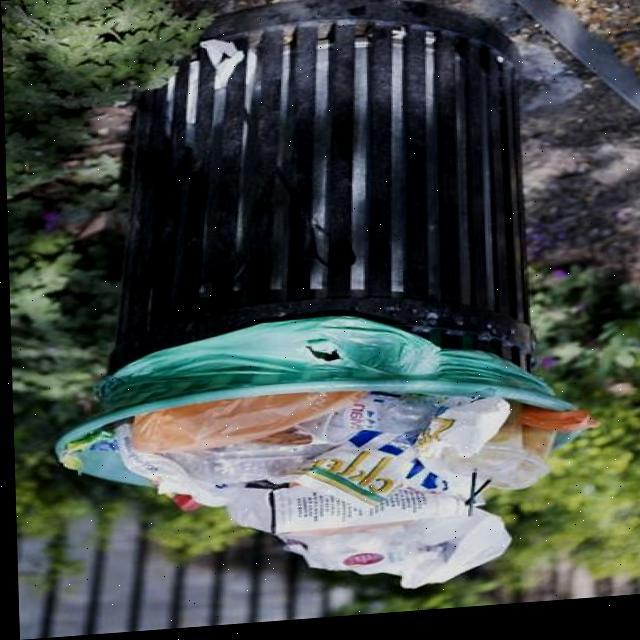Garbage: (111, 396, 591, 594)
Plastic_Bag: (111, 425, 327, 509), (128, 395, 364, 455)
